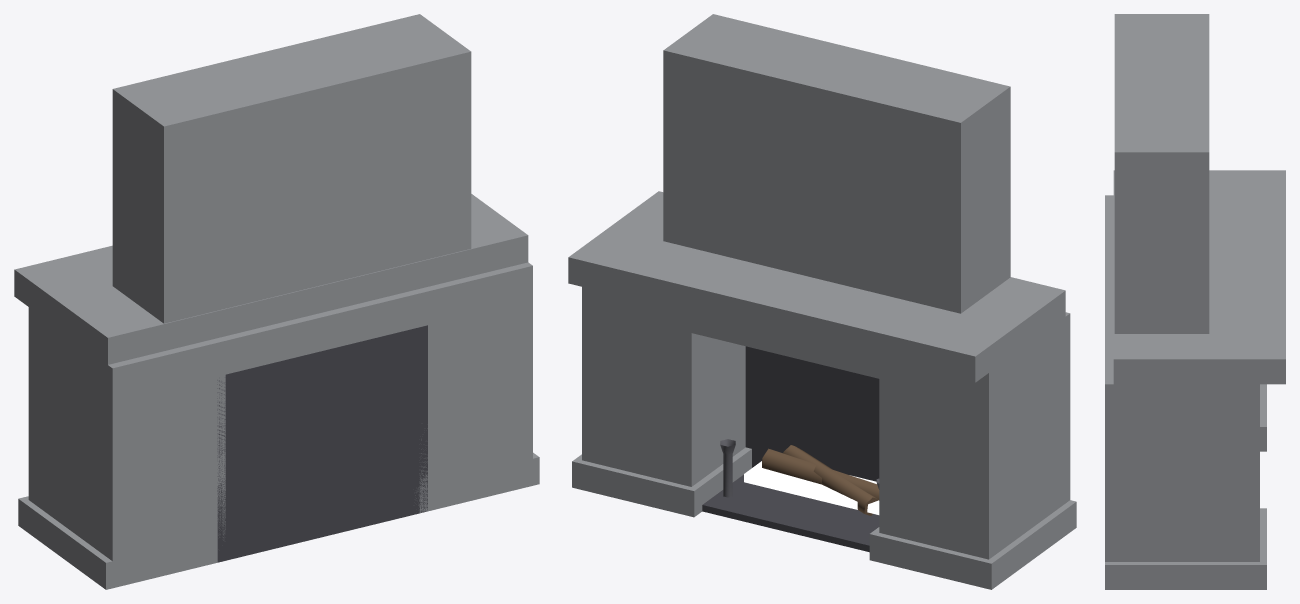
File: Fireplace.fbx
3 views of the same model, side by side, from view 1: azimuth 30°, elevation 25°; view 2: azimuth 150°, elevation 25°; view 3: azimuth 270°, elevation 25° (orthographic). The views are drawn at different scales.
Visible parts, largest first — view 1: Fireplace; view 2: Fireplace; view 3: Fireplace.
Boxes of the visible parts, left/top/right/bottom form: Fireplace: left=14, top=14, right=539, bottom=589; Fireplace: left=568, top=14, right=1076, bottom=589; Fireplace: left=1105, top=14, right=1285, bottom=589.
Size of the model in its own units: 2.68 by 2.62 by 1.05.
